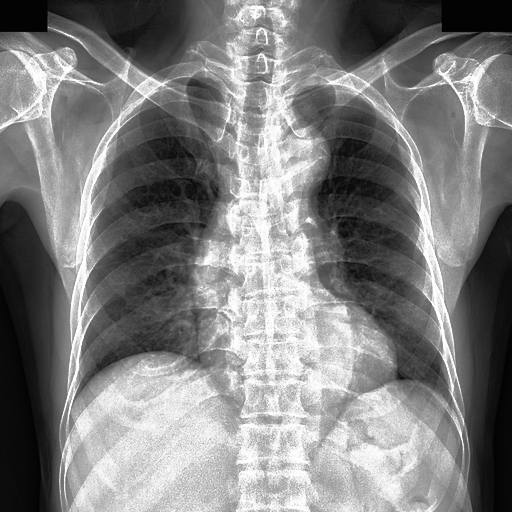Consolidation: (262, 129, 331, 200)
Nodule/Mass: (195, 315, 407, 407)
